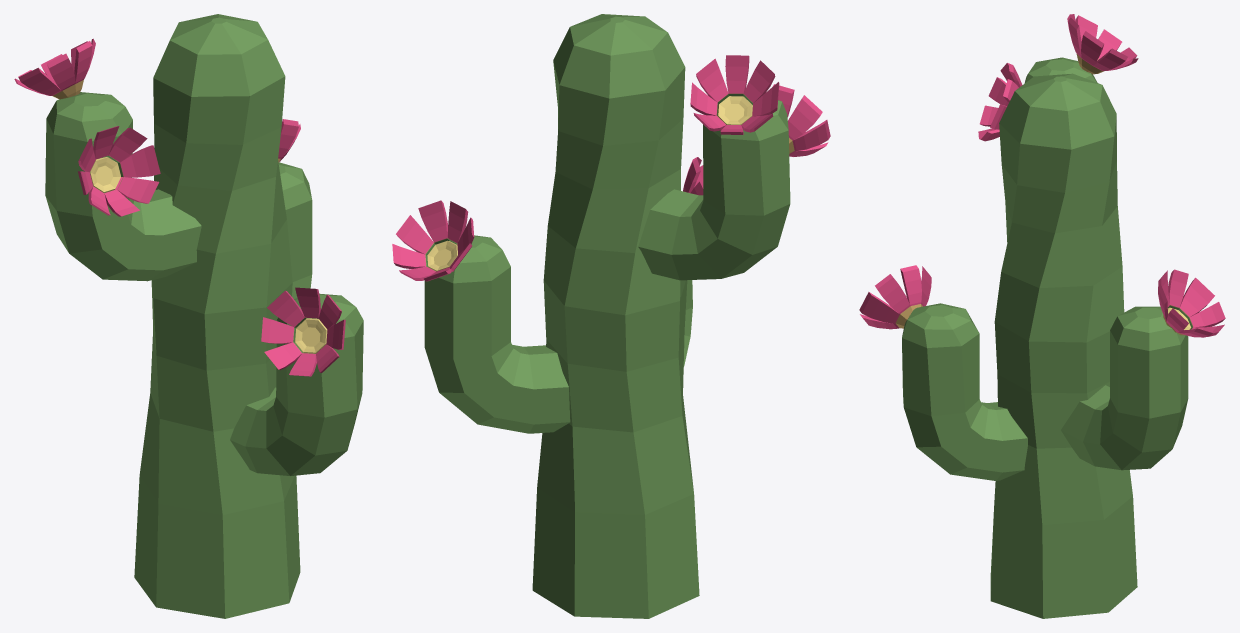
File: cactus.fbx
3 renders of one model, left to right at view 1: azimuth 30°, elevation 25°; view 2: azimuth 150°, elevation 25°; view 3: azimuth 270°, elevation 25°, orthographic. The views are drawn at different scales.
Visible parts, largest first — view 1: Cactus; view 2: Cactus; view 3: Cactus.
Boxes of the visible parts, x1,y1,x2,y2 form: Cactus: (14,14,363,618); Cactus: (392,14,830,618); Cactus: (859,14,1225,618).
Size of the model in its own units: 1.04 by 1.7 by 1.11.
